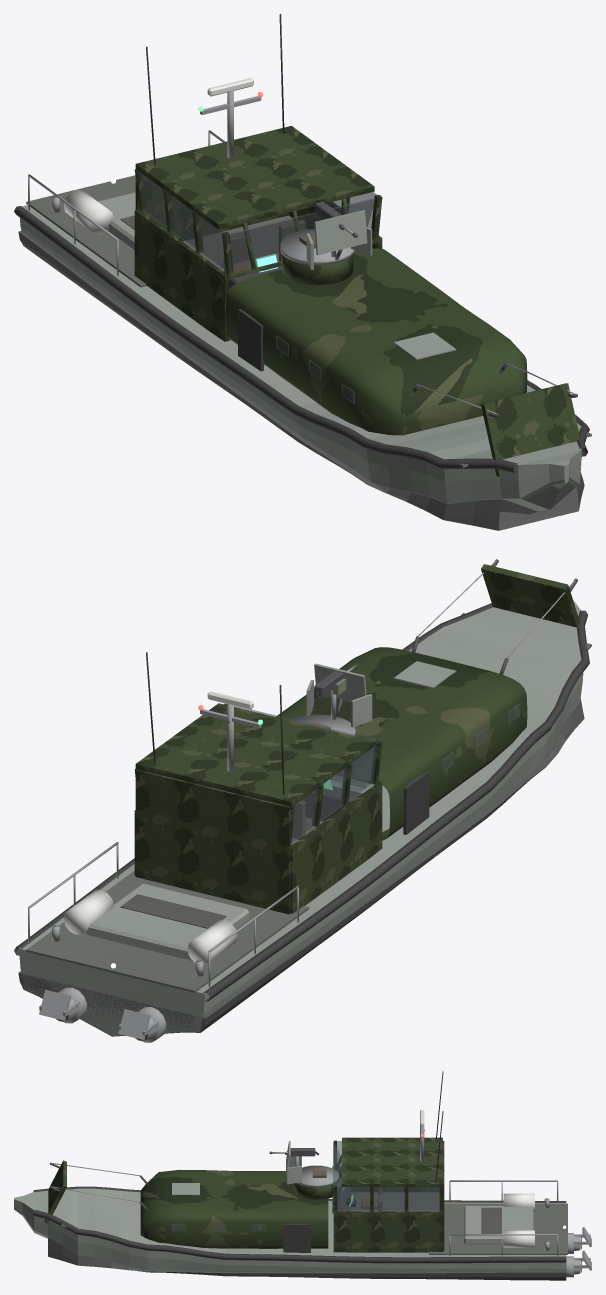
3 renders of one model, top to bottom at view 1: azimuth 30°, elevation 25°; view 2: azimuth 150°, elevation 25°; view 3: azimuth 270°, elevation 25°, orthographic. The views are drawn at different scales.
Visible parts, largest first — view 1: cb90_body, turret_yaw_geo; view 2: cb90_body, turret_yaw_geo, jet_L_geo, jet_R_geo, turret_pitch_geo; view 3: cb90_body, turret_yaw_geo, turret_pitch_geo.
Boxes of the visible parts, bbox=[...] form: cb90_body: bbox=[14, 14, 591, 530]; turret_yaw_geo: bbox=[280, 210, 372, 269]; cb90_body: bbox=[14, 559, 591, 1042]; turret_yaw_geo: bbox=[290, 663, 372, 735]; jet_L_geo: bbox=[39, 989, 79, 1021]; jet_R_geo: bbox=[118, 1009, 158, 1041]; turret_pitch_geo: bbox=[314, 664, 357, 698]; cb90_body: bbox=[14, 1071, 573, 1280]; turret_yaw_geo: bbox=[286, 1140, 338, 1187]; turret_pitch_geo: bbox=[269, 1148, 318, 1158].
Bounding box in the file's own units: 4.06 × 5.66 × 16.64.
19 materials, 1 textured.
